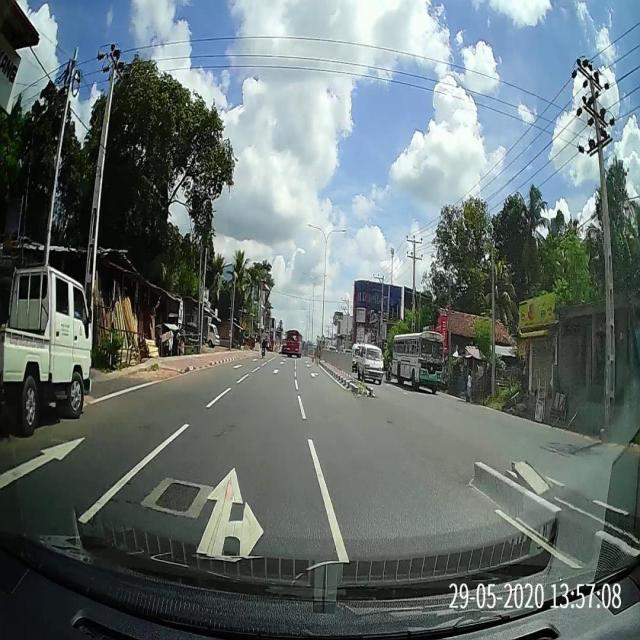Strelka vpered: (1, 435, 89, 491)
Strelka vpered - vpravo: (193, 463, 266, 562)
